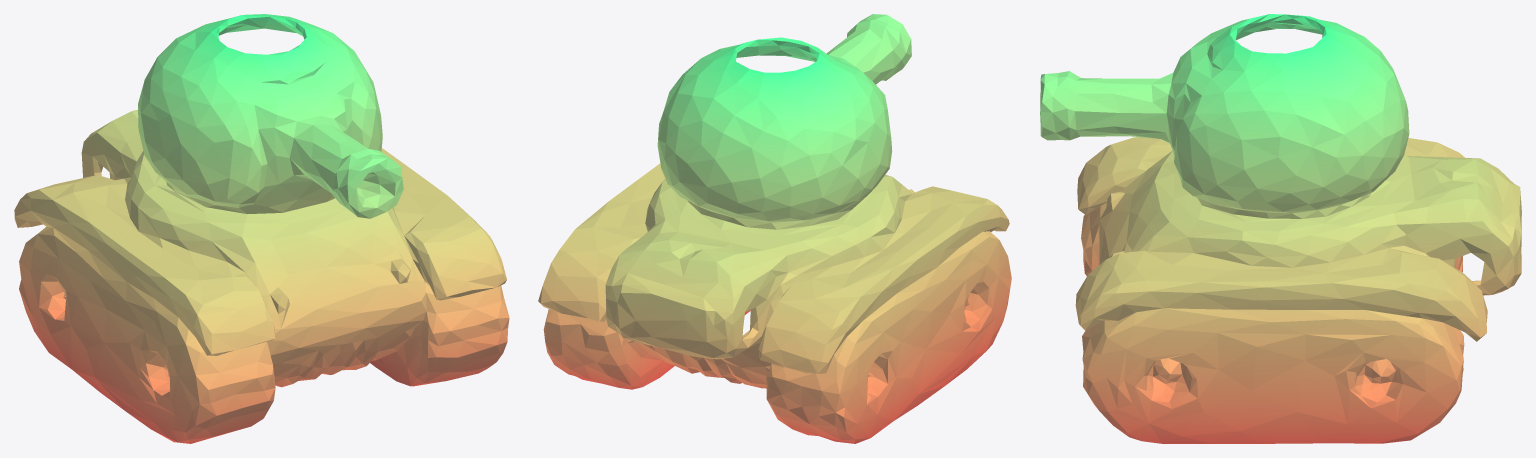
File: 17_cyb_laser_gradient_fish_scales_2887_2026_10_03_bd085d.glb
The picture shows the model from 3 angles, left to right: view 1: azimuth 30°, elevation 25°; view 2: azimuth 150°, elevation 25°; view 3: azimuth 270°, elevation 25°; orthographic projection. The views are drawn at different scales.
Parts seen in each view (by area): view 1: geometry_0; view 2: geometry_0; view 3: geometry_0.
Part boxes in pixels (bbox=[...]): geometry_0: bbox=[14, 14, 509, 443]; geometry_0: bbox=[538, 14, 1011, 443]; geometry_0: bbox=[1040, 14, 1521, 443].
Bounding box in the file's own units: 0.7848 × 0.7788 × 1.
